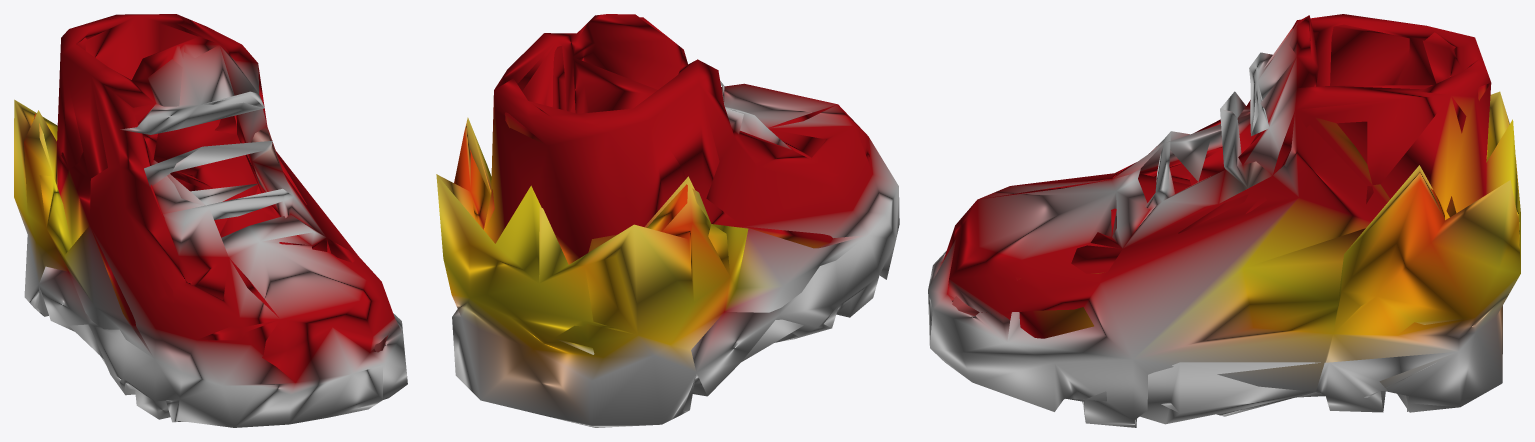
Rendered from gen3d-speed-boot-lod1.glb.
3 renders of one model, left to right at view 1: azimuth 30°, elevation 25°; view 2: azimuth 150°, elevation 25°; view 3: azimuth 270°, elevation 25°, orthographic. The views are drawn at different scales.
Visible parts, largest first — view 1: part_0; view 2: part_0; view 3: part_0.
Part boxes in pixels (x1=…): part_0: x1=14, y1=14, x2=407, y2=427; part_0: x1=436, y1=14, x2=899, y2=427; part_0: x1=928, y1=14, x2=1520, y2=427.
Bounding box in the file's own units: 0.8594 × 1 × 1.58.
